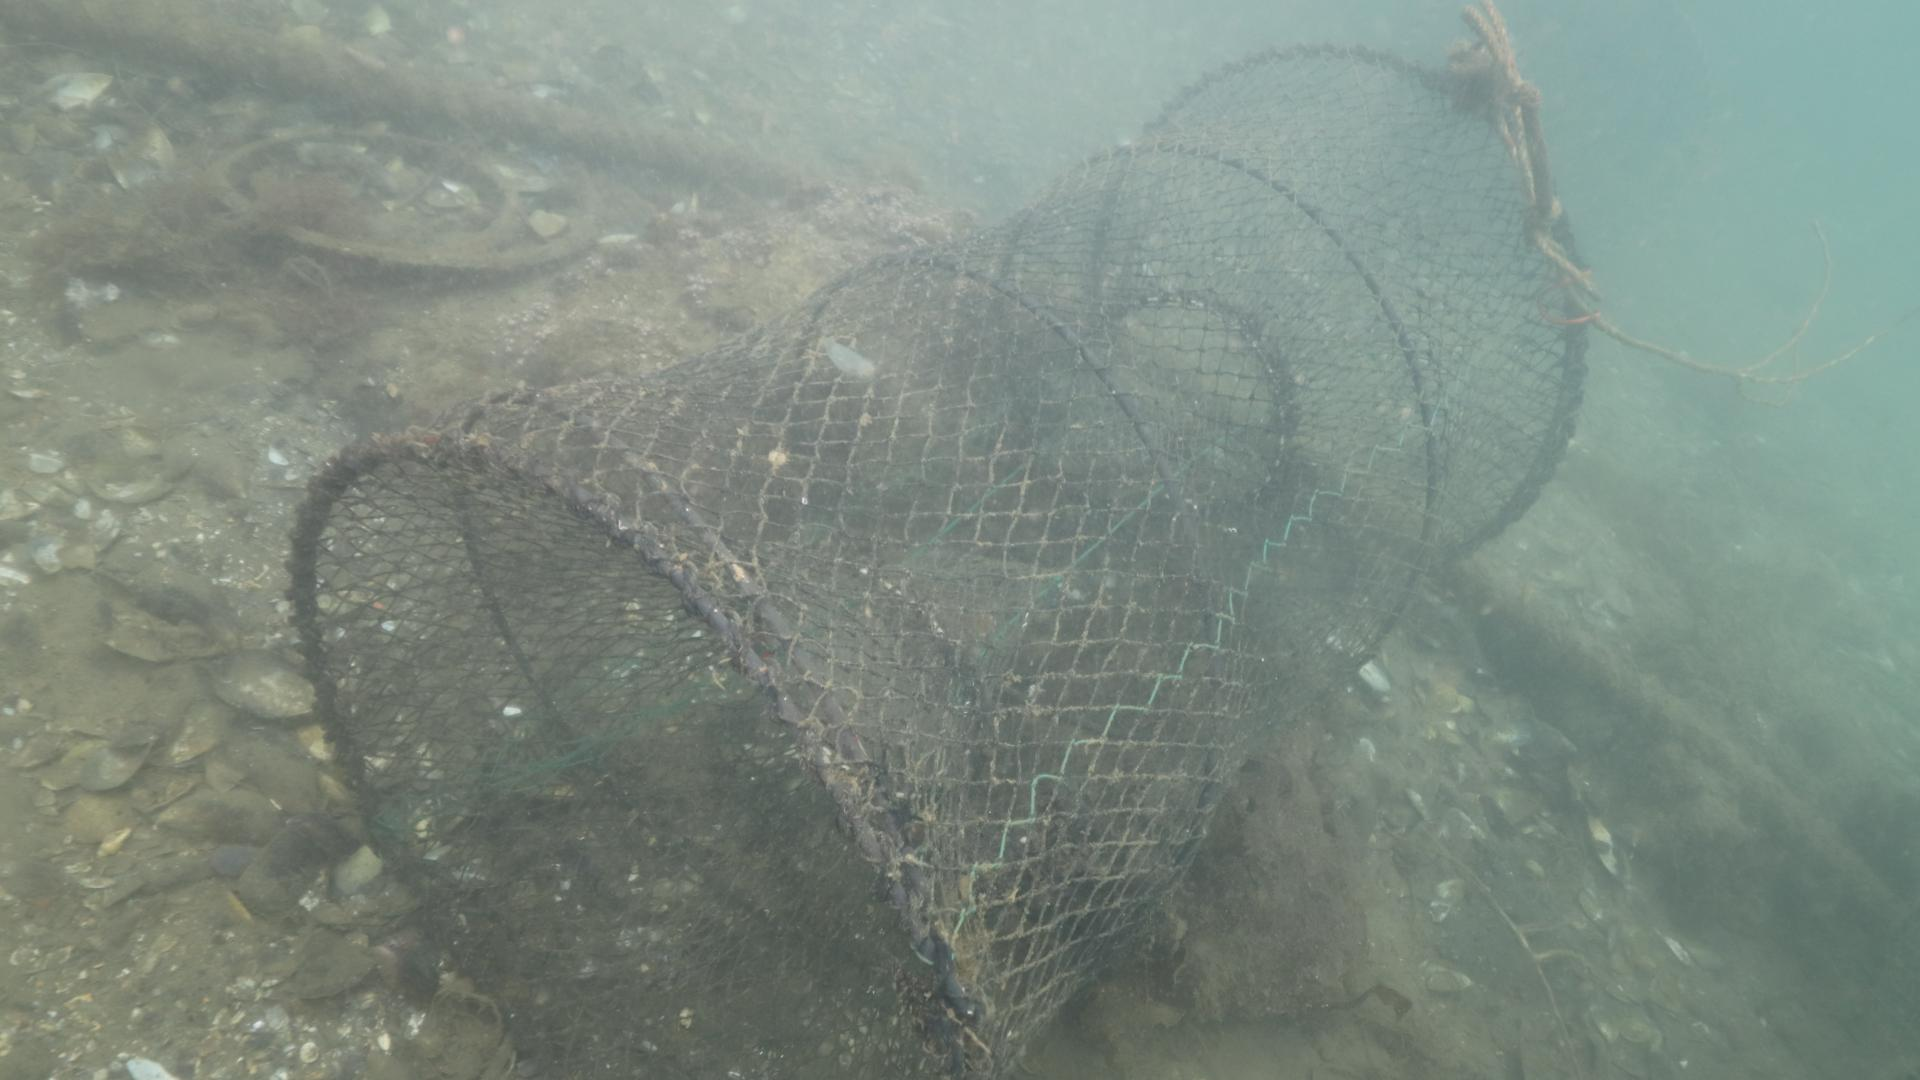spring fish trap: (280, 37, 1589, 1080)
